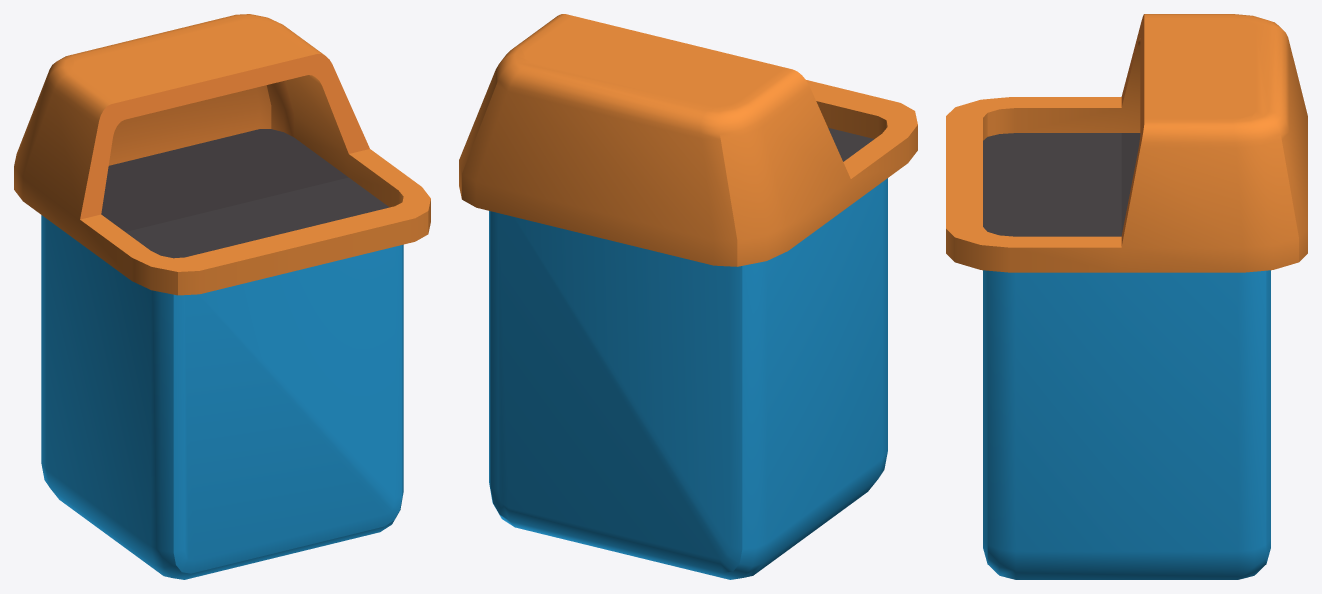
The model's file is Trash.fbx.
3 renders of one model, left to right at view 1: azimuth 30°, elevation 25°; view 2: azimuth 150°, elevation 25°; view 3: azimuth 270°, elevation 25°, orthographic. The views are drawn at different scales.
Visible parts, largest first — view 1: Trash; view 2: Trash; view 3: Trash.
Boxes of the visible parts, left/top/right/bottom form: Trash: left=14, top=14, right=430, bottom=579; Trash: left=459, top=14, right=917, bottom=579; Trash: left=946, top=14, right=1307, bottom=579.
Bounding box in the file's own units: 75.74 × 108 × 76.85.
